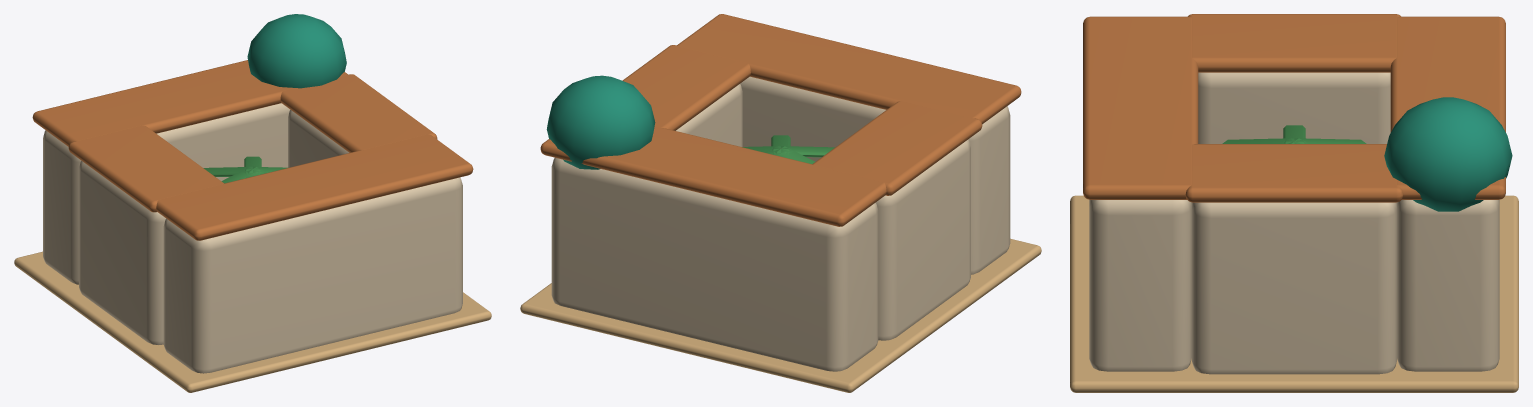
3 renders of one model, left to right at view 1: azimuth 30°, elevation 25°; view 2: azimuth 150°, elevation 25°; view 3: azimuth 270°, elevation 25°, orthographic. The views are drawn at different scales.
Parts seen in each view (by area): view 1: Cube; view 2: Cube; view 3: Cube.
Boxes of the visible parts, x1,y1,x2,y2 form: Cube: (14, 14, 491, 392); Cube: (520, 14, 1041, 392); Cube: (1070, 14, 1518, 392).
Size of the model in its own units: 0.7 by 0.45 by 0.7.
